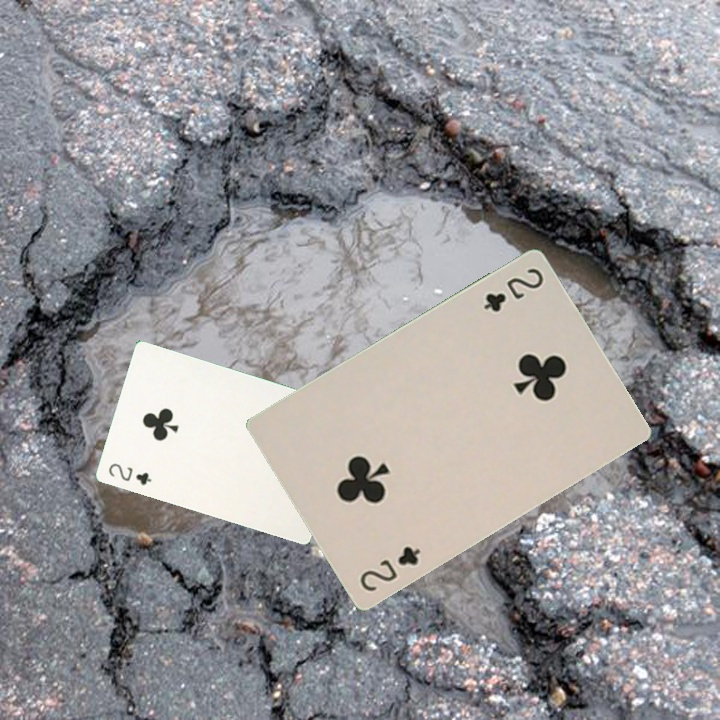2c: (355, 542, 423, 595), (479, 263, 546, 315), (104, 459, 154, 488)
